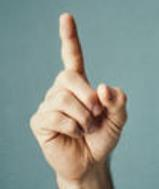up: (29, 11, 128, 172)
